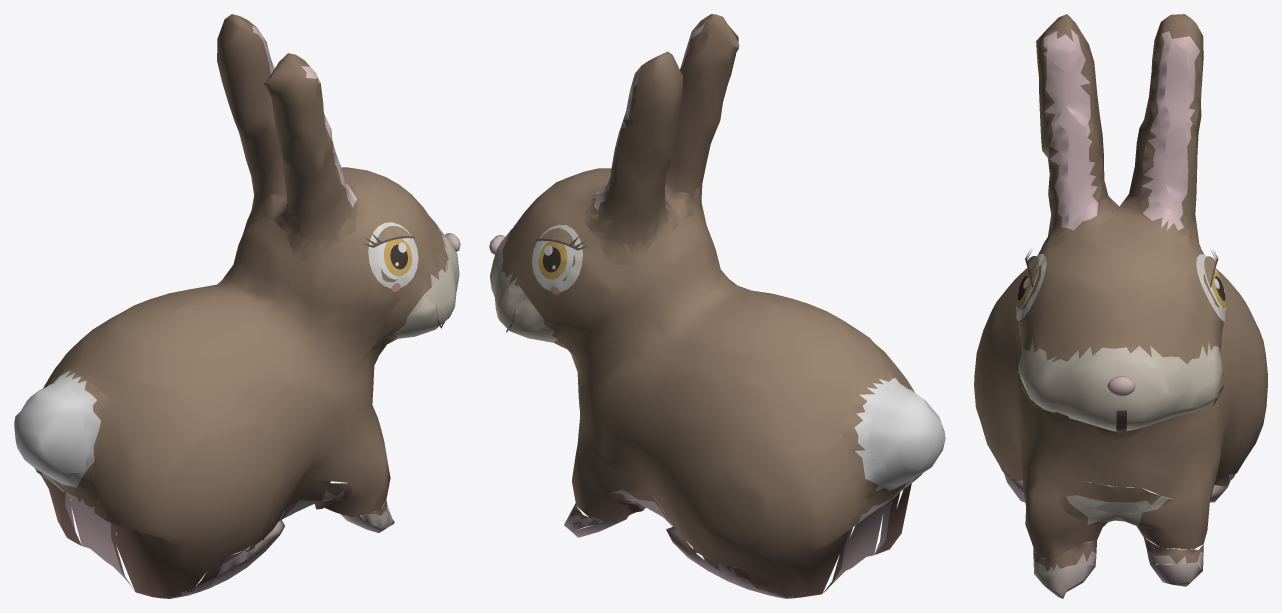
Rendered from cocoa_rabbit.glb.
3 renders of one model, left to right at view 1: azimuth 30°, elevation 25°; view 2: azimuth 150°, elevation 25°; view 3: azimuth 270°, elevation 25°, orthographic. The views are drawn at different scales.
Parts seen in each view (by area): view 1: cocoa_rabbit; view 2: cocoa_rabbit; view 3: cocoa_rabbit.
Boxes of the visible parts, bbox=[...] form: cocoa_rabbit: bbox=[14, 14, 460, 598]; cocoa_rabbit: bbox=[489, 14, 945, 598]; cocoa_rabbit: bbox=[974, 14, 1267, 598].
Size of the model in its own units: 0.4758 by 0.521 by 0.2577.
